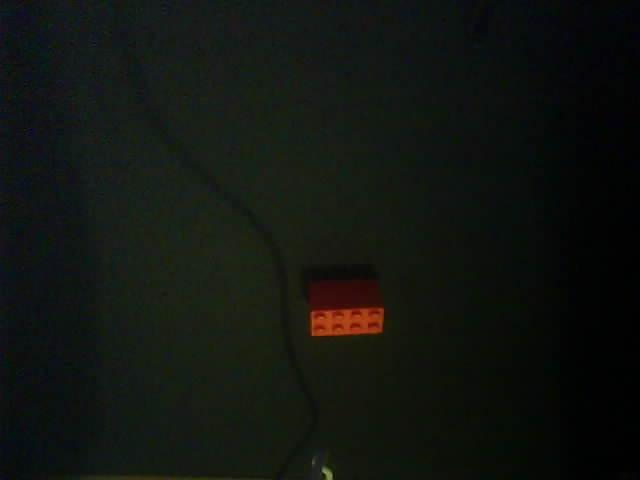lego: (307, 278, 386, 337)
